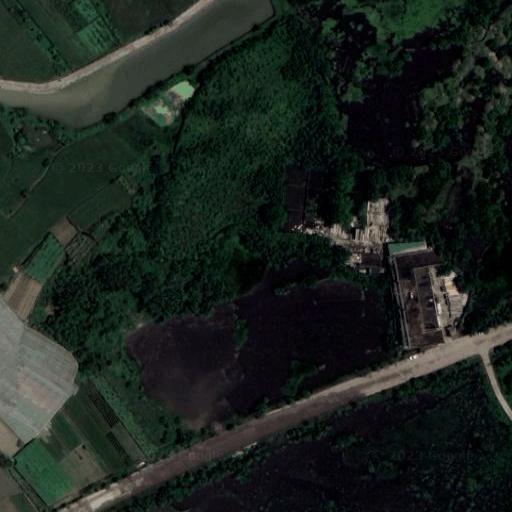building: (394, 250, 446, 346), (277, 161, 307, 232), (415, 267, 439, 328), (389, 237, 427, 256), (361, 253, 381, 267)
